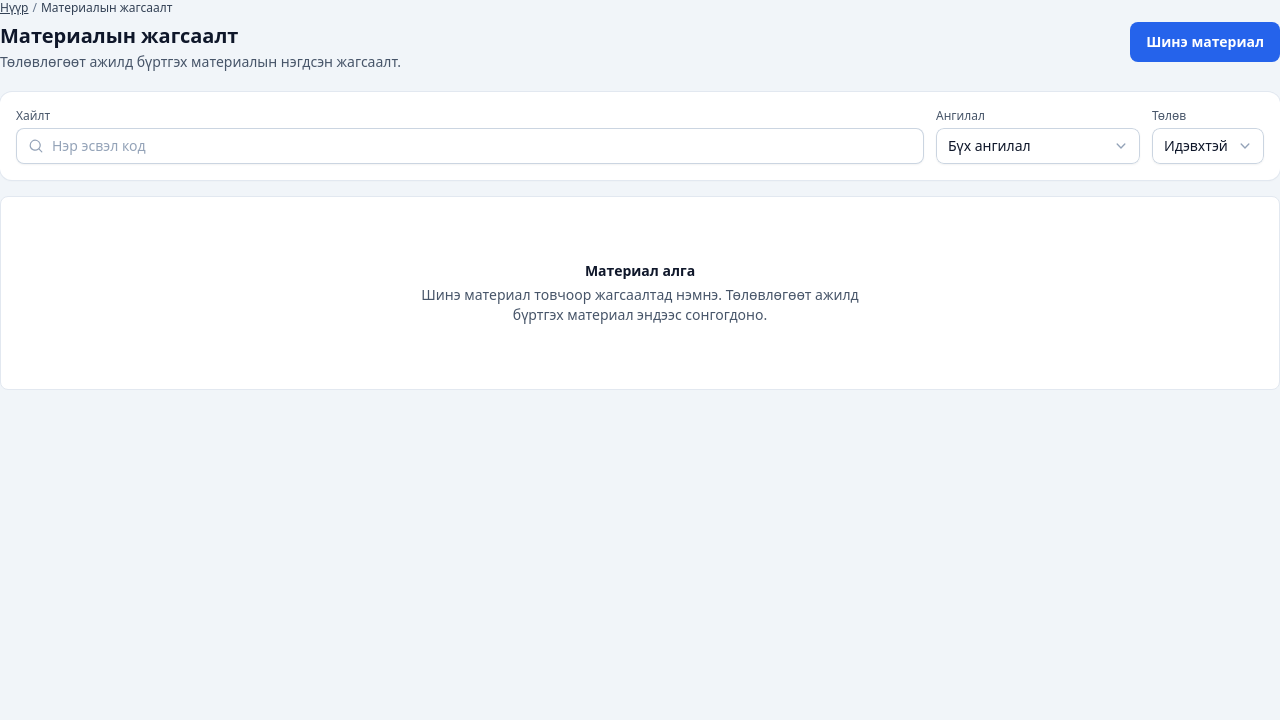
Test: MaterialsPage › refuses to submit a code the shared schema rejects
Click the button "Шинэ материал".
click(1205, 42)  # box [1130, 22, 1279, 62]
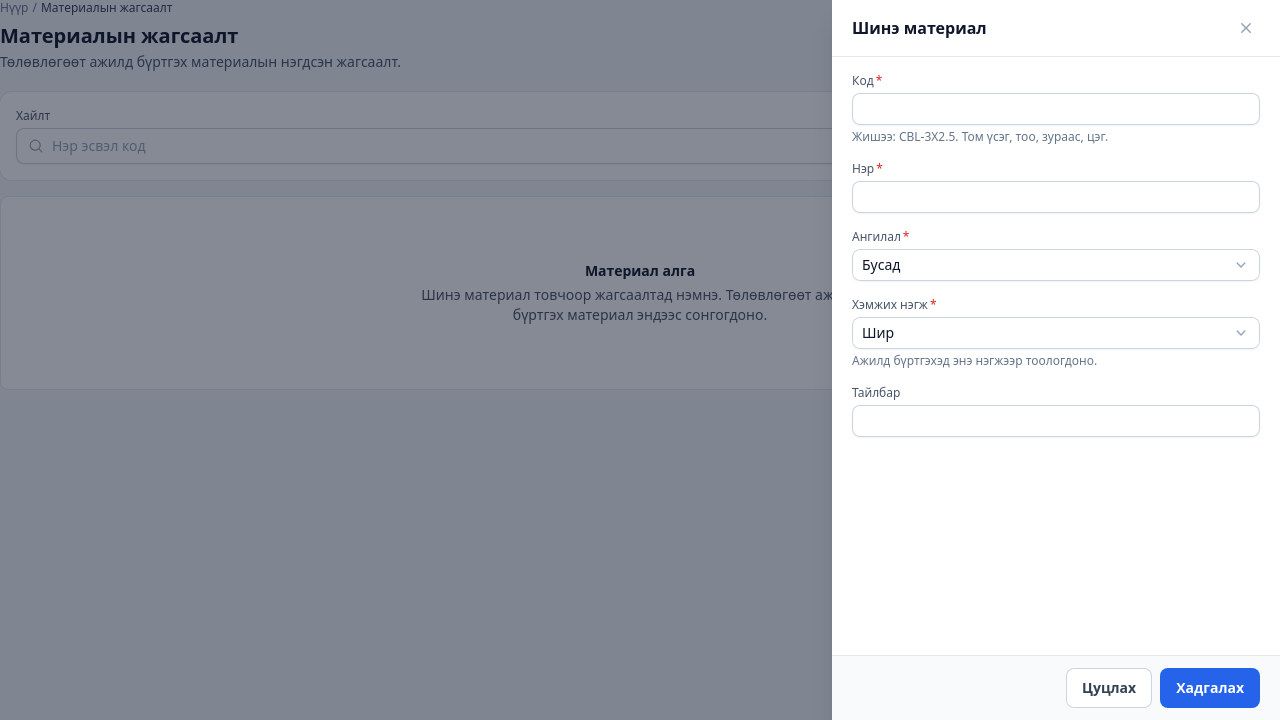
Type "a" into the field labelled "Код*".
click(1056, 109); type("a")  # box [852, 93, 1260, 125]
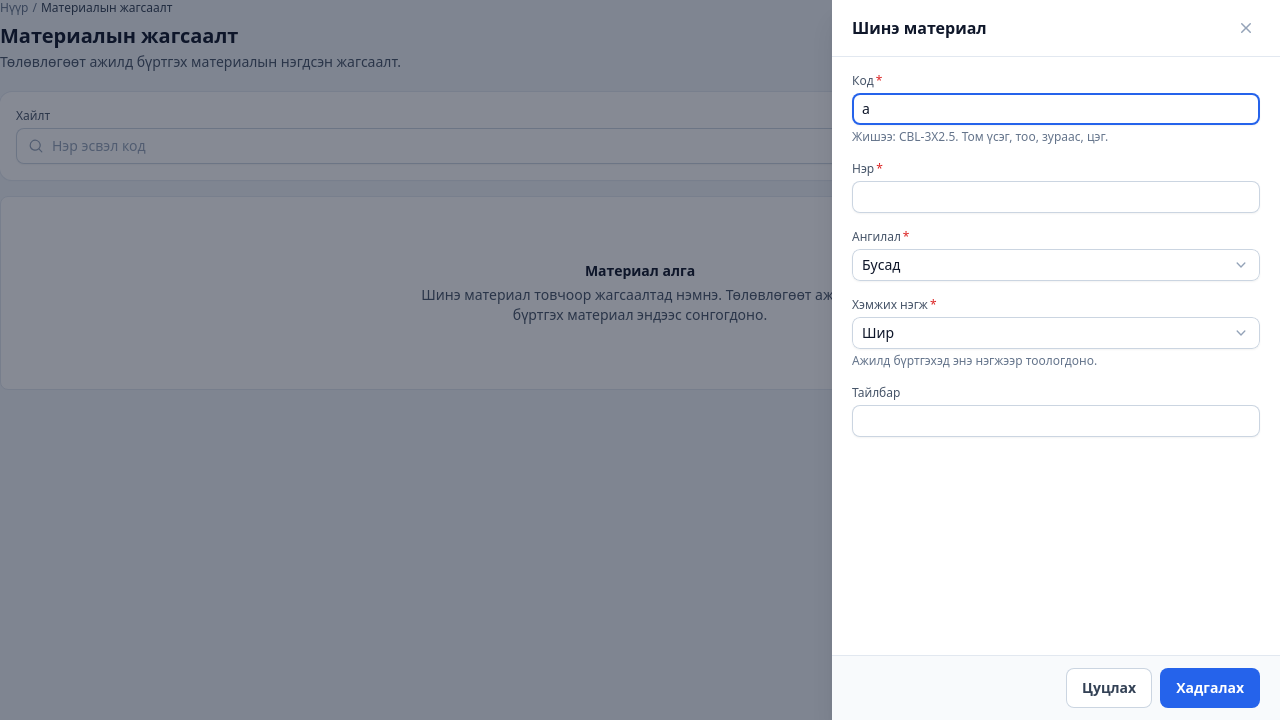
Type "Хэт богино кодтой" into the field labelled "Нэр*".
click(1056, 197); type("Хэт богино кодтой")  # box [852, 181, 1260, 213]
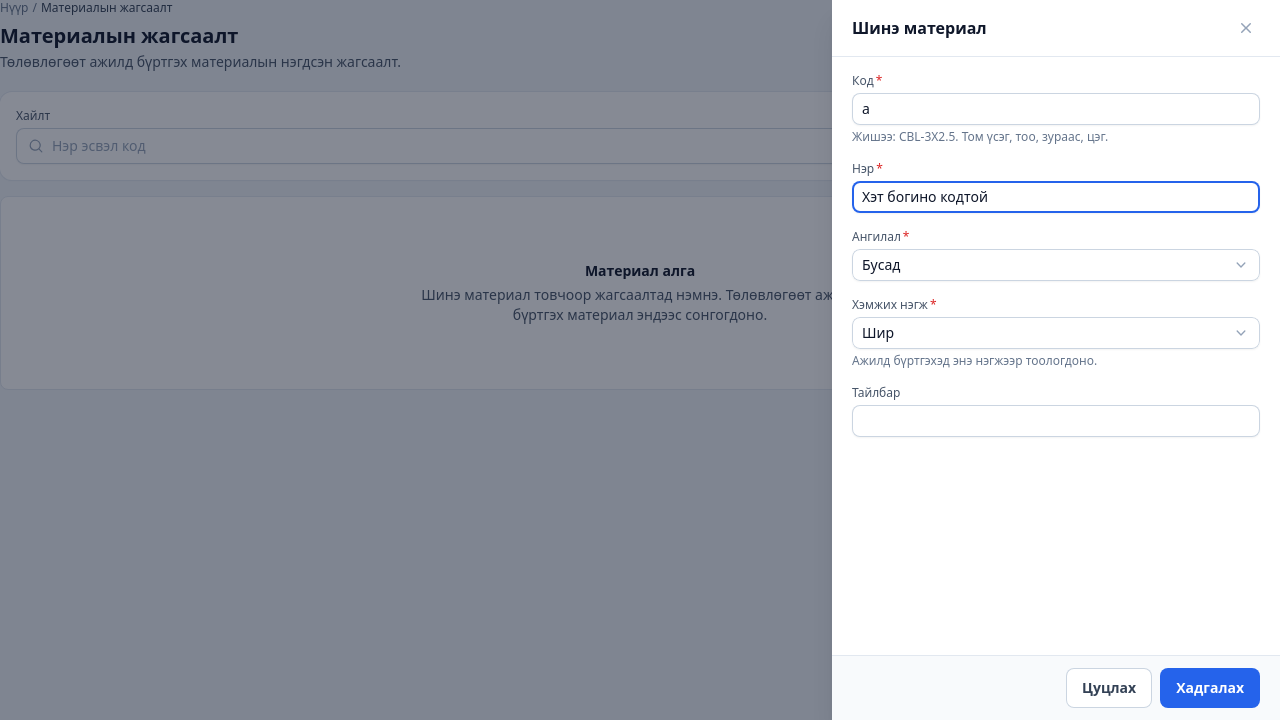
Click the button "Хадгалах".
click(1210, 688)  # box [1160, 668, 1260, 708]
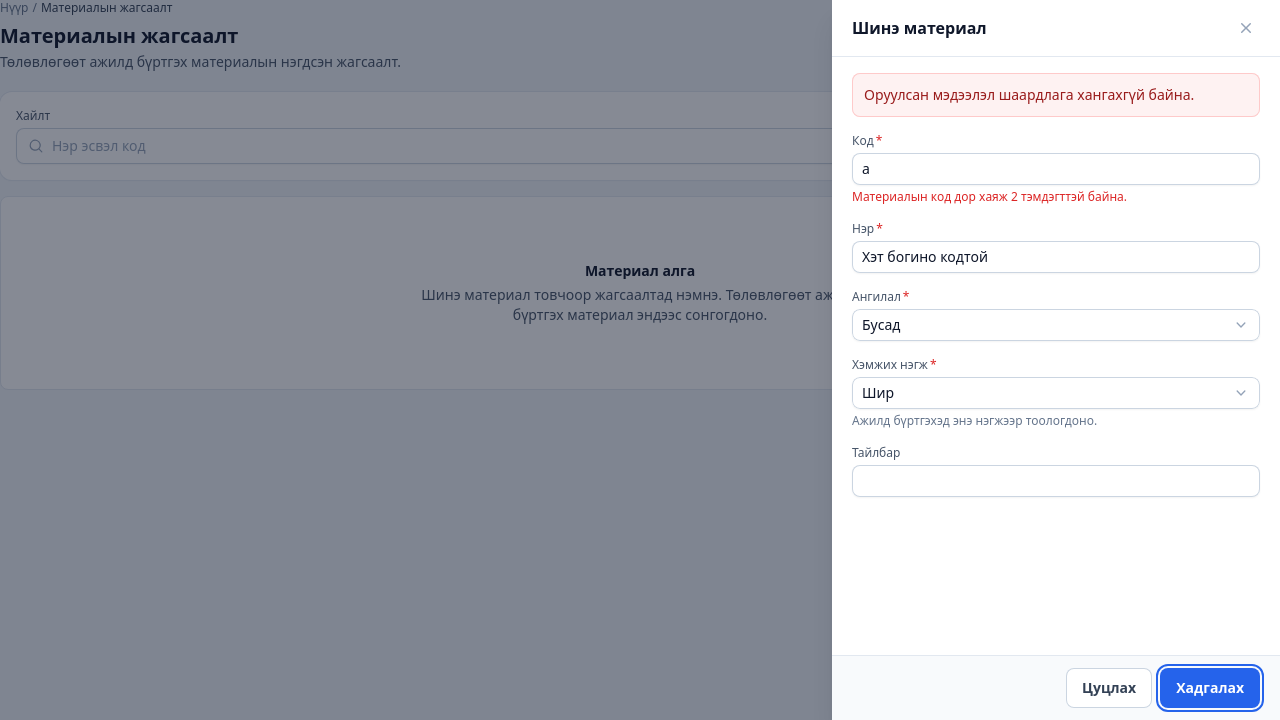
Result: the text "Материалын код дор хаяж 2 тэмдэгттэй байна." is shown at [852, 188, 1127, 205]
